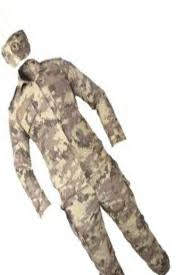uniform: (2, 23, 168, 260)
